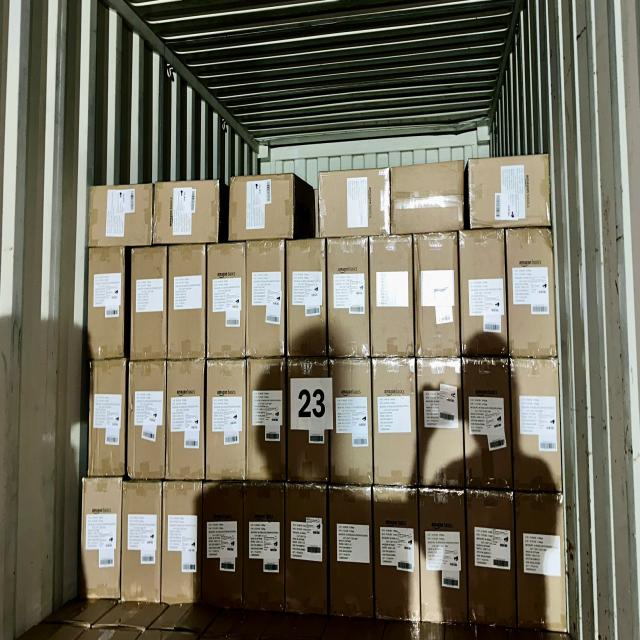Carton: (518, 494, 572, 636), (512, 360, 564, 492), (372, 486, 420, 624), (468, 492, 516, 628), (510, 228, 560, 358), (465, 361, 513, 491), (419, 491, 465, 626), (462, 230, 510, 358), (467, 158, 550, 232), (418, 360, 464, 490), (330, 489, 375, 620), (371, 358, 415, 486), (415, 234, 460, 358), (287, 361, 332, 485), (389, 164, 465, 236), (286, 489, 328, 618), (368, 235, 412, 358), (332, 359, 374, 486), (328, 239, 371, 359), (206, 360, 248, 482), (80, 476, 121, 600), (203, 484, 243, 611), (247, 483, 286, 612), (286, 240, 327, 360), (122, 480, 162, 601), (320, 171, 390, 240), (161, 485, 199, 609), (248, 361, 286, 485), (248, 242, 288, 358), (207, 244, 247, 360), (170, 358, 208, 479), (129, 362, 167, 482), (92, 362, 129, 480), (85, 248, 124, 359), (170, 246, 208, 359), (130, 250, 168, 363), (231, 177, 296, 243), (90, 186, 156, 250), (156, 182, 223, 244)
